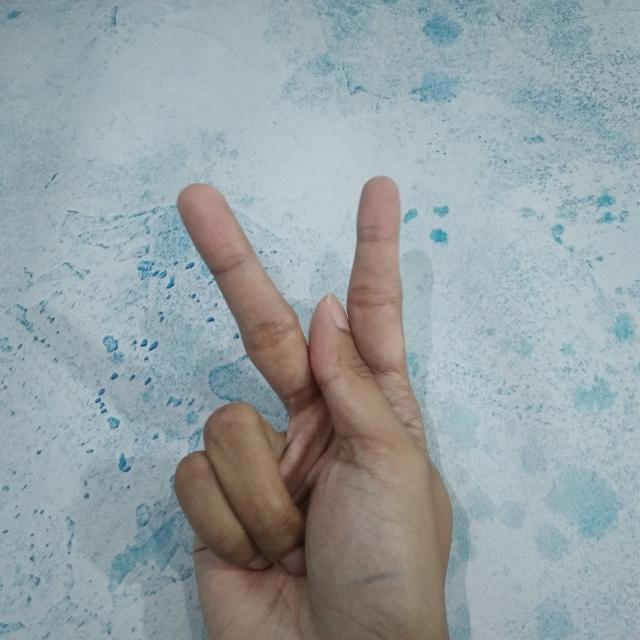K: (154, 170, 470, 640)
